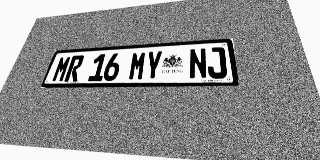1: (88, 54, 108, 81)
6: (102, 53, 122, 81)
J: (207, 47, 228, 79)
M: (128, 51, 147, 80), (51, 56, 72, 82)
N: (189, 48, 207, 79)
R: (64, 55, 85, 82)
Y: (144, 50, 163, 80)
